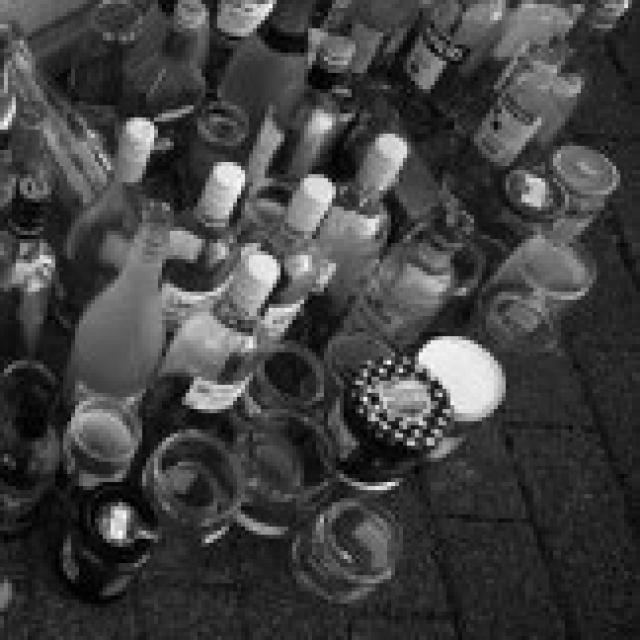electronic: (56, 212, 170, 446)
